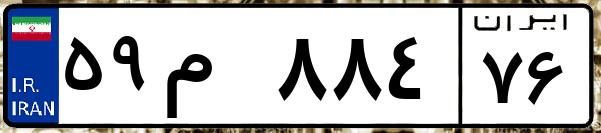4: (385, 28, 445, 110)
5: (57, 26, 110, 100)
6: (525, 38, 570, 115)
7: (475, 38, 525, 113)
8: (270, 28, 330, 110), (330, 28, 385, 110)
9: (110, 28, 158, 98)
م: (158, 20, 270, 120)
